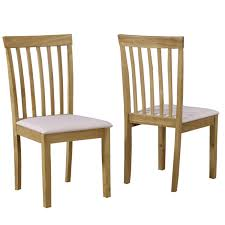tiyarina: (1, 27, 111, 212), (115, 24, 221, 194)
